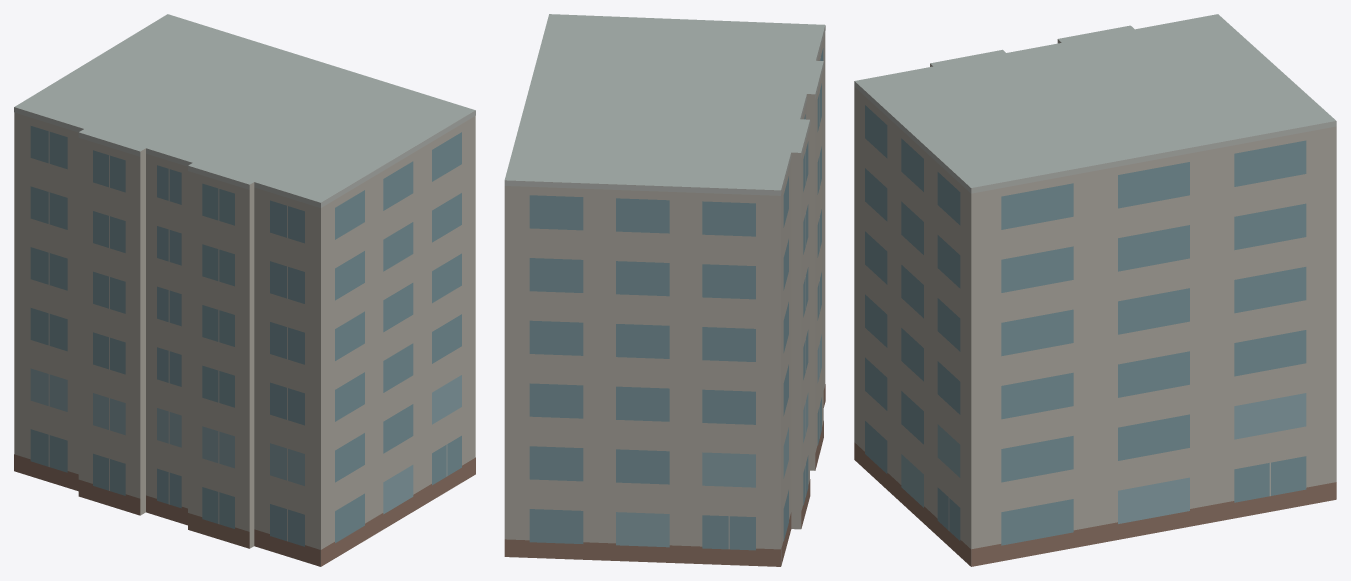
The model's file is survey-upis-32589341.glb.
The picture shows the model from 3 angles, left to right: view 1: azimuth 30°, elevation 25°; view 2: azimuth 150°, elevation 25°; view 3: azimuth 270°, elevation 25°; orthographic projection. The views are drawn at different scales.
Visible parts, largest first — view 1: survey-upis-32589341.tmp; view 2: survey-upis-32589341.tmp; view 3: survey-upis-32589341.tmp.
Part boxes in pixels (bbox=[...]): survey-upis-32589341.tmp: bbox=[14, 14, 475, 566]; survey-upis-32589341.tmp: bbox=[504, 14, 825, 566]; survey-upis-32589341.tmp: bbox=[854, 14, 1336, 566].
Bounding box in the file's own units: 16.37 × 16.6 × 19.16.
